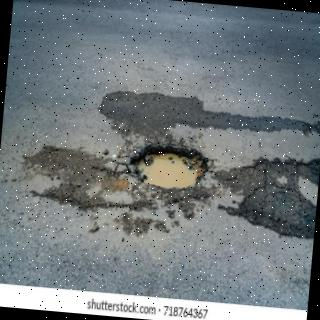pothole: (130, 145, 208, 189)
